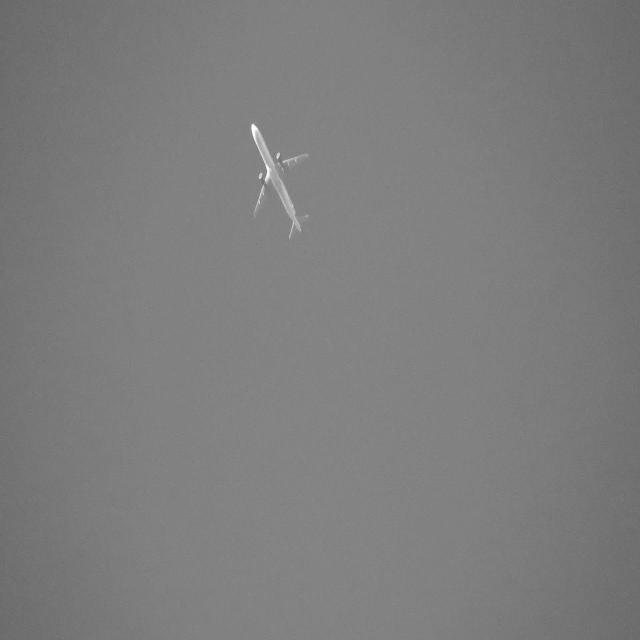aeroplane: (249, 118, 316, 249)
